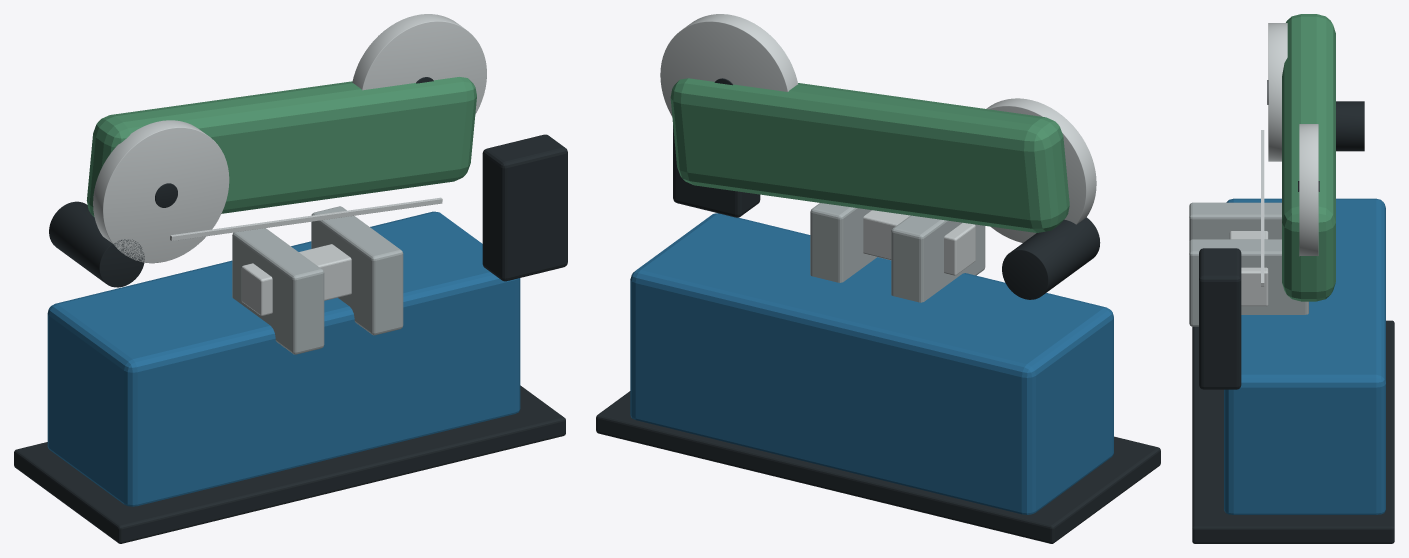
The model's file is horizontal_bandsaw.glb.
3 renders of one model, left to right at view 1: azimuth 30°, elevation 25°; view 2: azimuth 150°, elevation 25°; view 3: azimuth 270°, elevation 25°, orthographic. The views are drawn at different scales.
Parts seen in each view (by area): view 1: COOLANT_BASE, KIN_SAW_BOW, MACHINE_BASE, BAND_WHEEL_LEFT, CONTROL_PANEL, BAND_WHEEL_RIGHT, VISE_FIXED, KIN_VISE_MOVING, BOW_PIVOT, WORKPIECE, VISIBLE_BAND_BLADE; view 2: COOLANT_BASE, KIN_SAW_BOW, MACHINE_BASE, BAND_WHEEL_RIGHT, VISE_FIXED, BOW_PIVOT, KIN_VISE_MOVING, BAND_WHEEL_LEFT, WORKPIECE, CONTROL_PANEL; view 3: COOLANT_BASE, KIN_SAW_BOW, MACHINE_BASE, CONTROL_PANEL, KIN_VISE_MOVING, VISE_FIXED, BAND_WHEEL_RIGHT, BAND_WHEEL_LEFT, BOW_PIVOT, WORKPIECE, VISIBLE_BAND_BLADE.
Boxes of the visible parts, <box> form: COOLANT_BASE: <box>47,211,520,506</box>; KIN_SAW_BOW: <box>86,77,476,216</box>; MACHINE_BASE: <box>14,385,565,543</box>; BAND_WHEEL_LEFT: <box>93,120,229,263</box>; CONTROL_PANEL: <box>482,134,567,281</box>; BAND_WHEEL_RIGHT: <box>352,14,486,114</box>; VISE_FIXED: <box>232,228,324,354</box>; KIN_VISE_MOVING: <box>311,206,403,335</box>; BOW_PIVOT: <box>49,201,144,287</box>; WORKPIECE: <box>241,244,351,315</box>; VISIBLE_BAND_BLADE: <box>170,197,442,240</box>; COOLANT_BASE: <box>630,213,1113,514</box>; KIN_SAW_BOW: <box>670,78,1069,232</box>; MACHINE_BASE: <box>596,391,1160,543</box>; BAND_WHEEL_RIGHT: <box>660,14,798,116</box>; VISE_FIXED: <box>891,215,985,302</box>; BOW_PIVOT: <box>1002,217,1100,299</box>; KIN_VISE_MOVING: <box>810,203,876,282</box>; BAND_WHEEL_LEFT: <box>986,98,1096,242</box>; WORKPIECE: <box>863,210,975,275</box>; CONTROL_PANEL: <box>673,125,760,217</box>; COOLANT_BASE: <box>1224,198,1385,514</box>; KIN_SAW_BOW: <box>1282,14,1335,301</box>; MACHINE_BASE: <box>1192,320,1394,543</box>; CONTROL_PANEL: <box>1199,248,1241,389</box>; KIN_VISE_MOVING: <box>1189,239,1308,326</box>; VISE_FIXED: <box>1189,202,1281,241</box>; BAND_WHEEL_RIGHT: <box>1299,124,1318,256</box>; BAND_WHEEL_LEFT: <box>1268,23,1287,161</box>; BOW_PIVOT: <box>1336,101,1364,151</box>; WORKPIECE: <box>1229,231,1268,306</box>; VISIBLE_BAND_BLADE: <box>1261,130,1264,286</box>.
Bounding box in the file's own units: 2.58 × 2.14 × 1.06.
